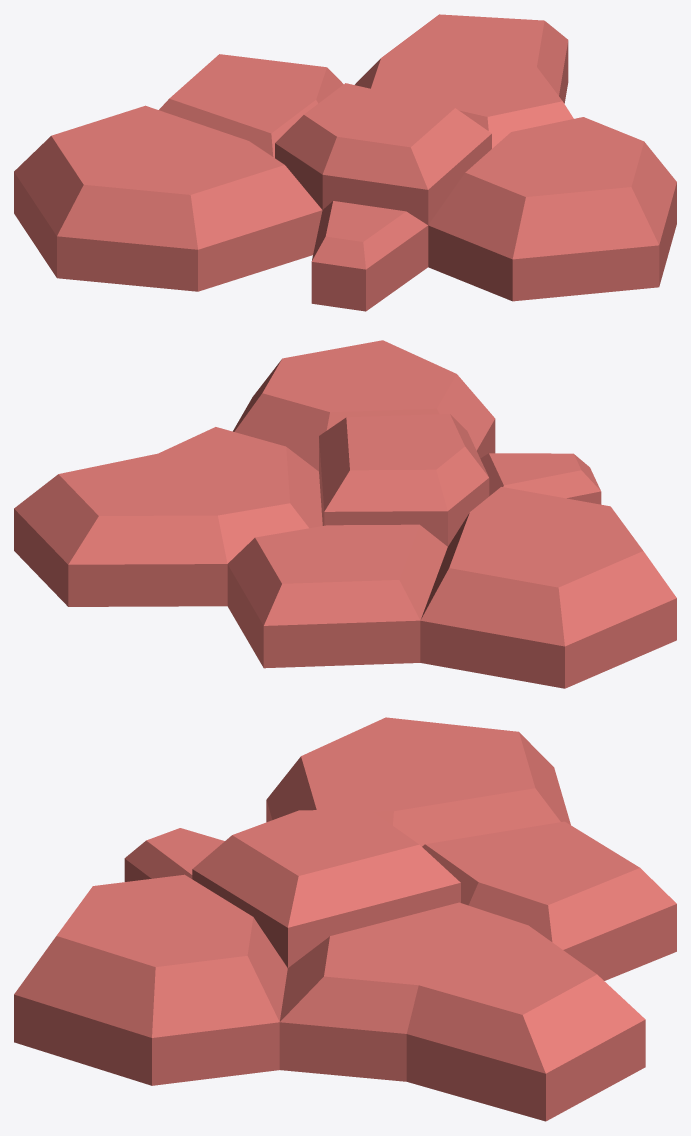
File: RockType4 02.fbx
3 renders of one model, top to bottom at view 1: azimuth 30°, elevation 25°; view 2: azimuth 150°, elevation 25°; view 3: azimuth 270°, elevation 25°, orthographic. The views are drawn at different scales.
Parts seen in each view (by area): view 1: Rock Type4 02 mesh; view 2: Rock Type4 02 mesh; view 3: Rock Type4 02 mesh.
Part boxes in pixels (bbox=[...]): Rock Type4 02 mesh: bbox=[14, 14, 676, 311]; Rock Type4 02 mesh: bbox=[14, 340, 676, 688]; Rock Type4 02 mesh: bbox=[14, 717, 676, 1121].
Bounding box in the file's own units: 303 × 53 × 261.
